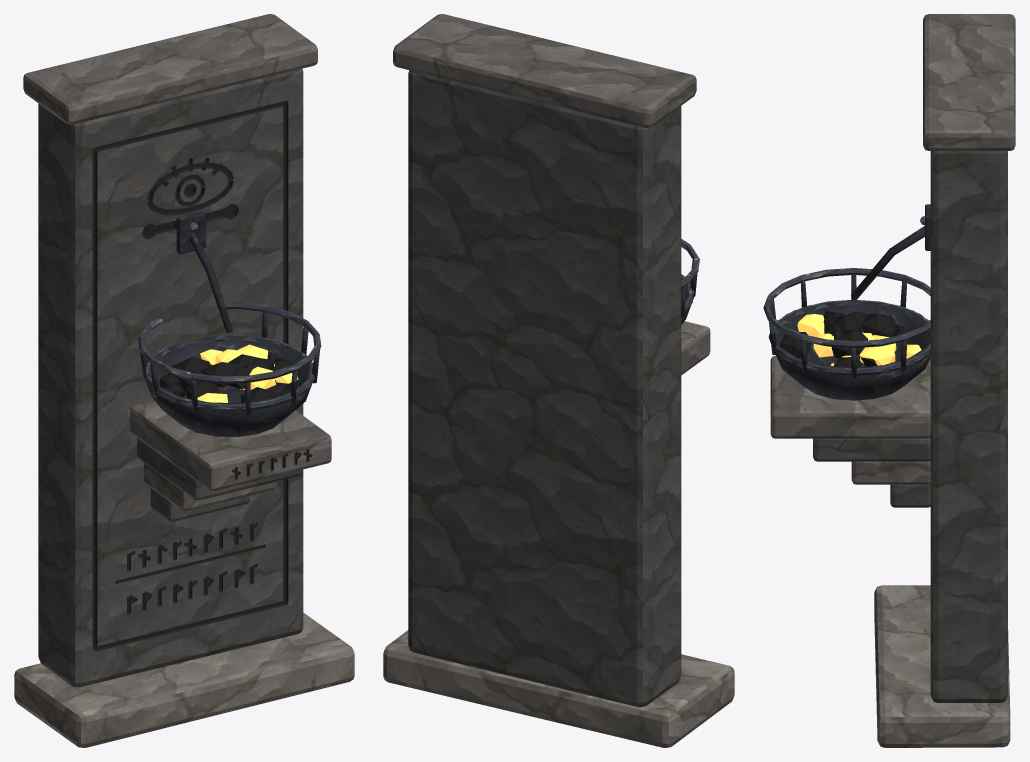
The model's file is vo_wall_brazier.glb.
3 views of the same model, side by side, from view 1: azimuth 30°, elevation 25°; view 2: azimuth 150°, elevation 25°; view 3: azimuth 270°, elevation 25° (orthographic). The views are drawn at different scales.
Visible parts, largest first — view 1: model; view 2: model; view 3: model.
Part boxes in pixels (x1,y1,x2,y2): model: [14, 14, 354, 747]; model: [383, 14, 734, 747]; model: [763, 14, 1015, 747].
Bounding box in the file's own units: 0.8229 × 1.75 × 0.654.
8 materials, 5 textured.
